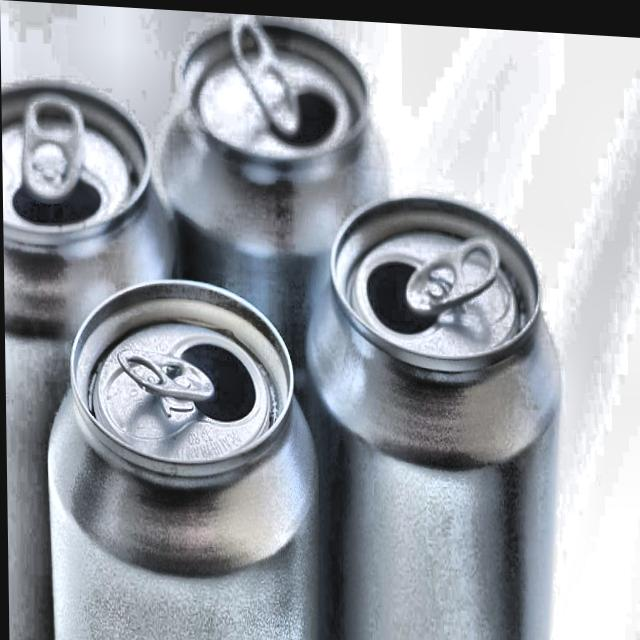can: (295, 176, 569, 640), (39, 267, 324, 640), (2, 75, 188, 640), (147, 7, 398, 410)
